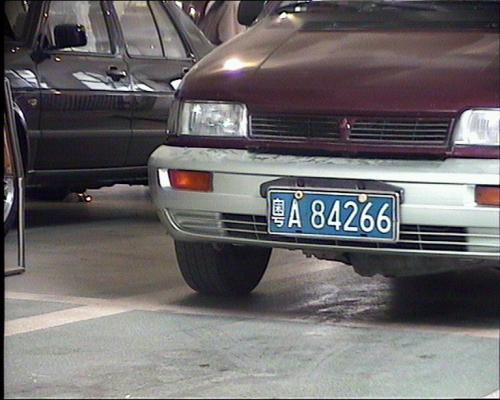Carplate: (256, 186, 402, 244)
